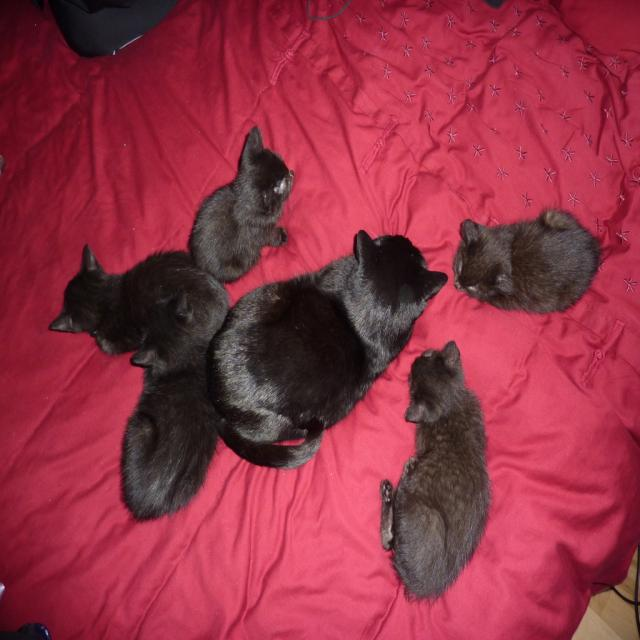Cat: (201, 227, 449, 469), (379, 337, 494, 609), (117, 288, 224, 522), (46, 242, 230, 362), (187, 122, 296, 285), (452, 204, 607, 317)
